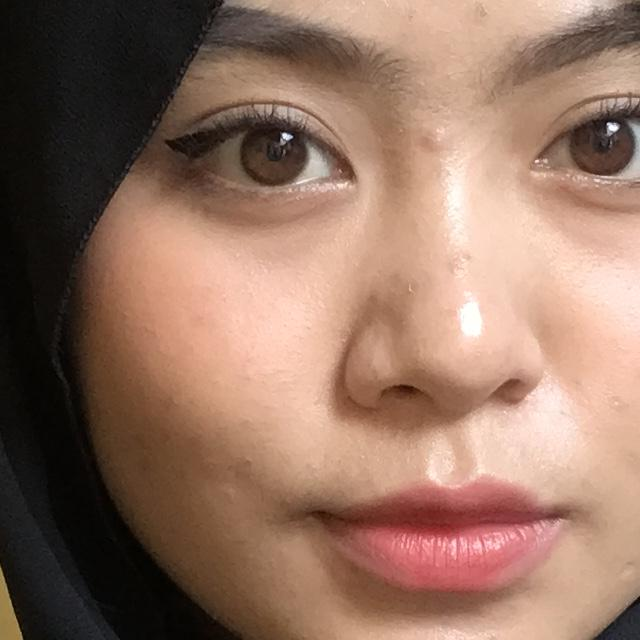kapan: (0, 376, 330, 640)
